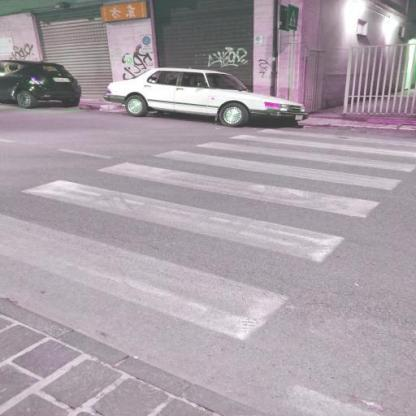crosswalk: (13, 158, 385, 265)
